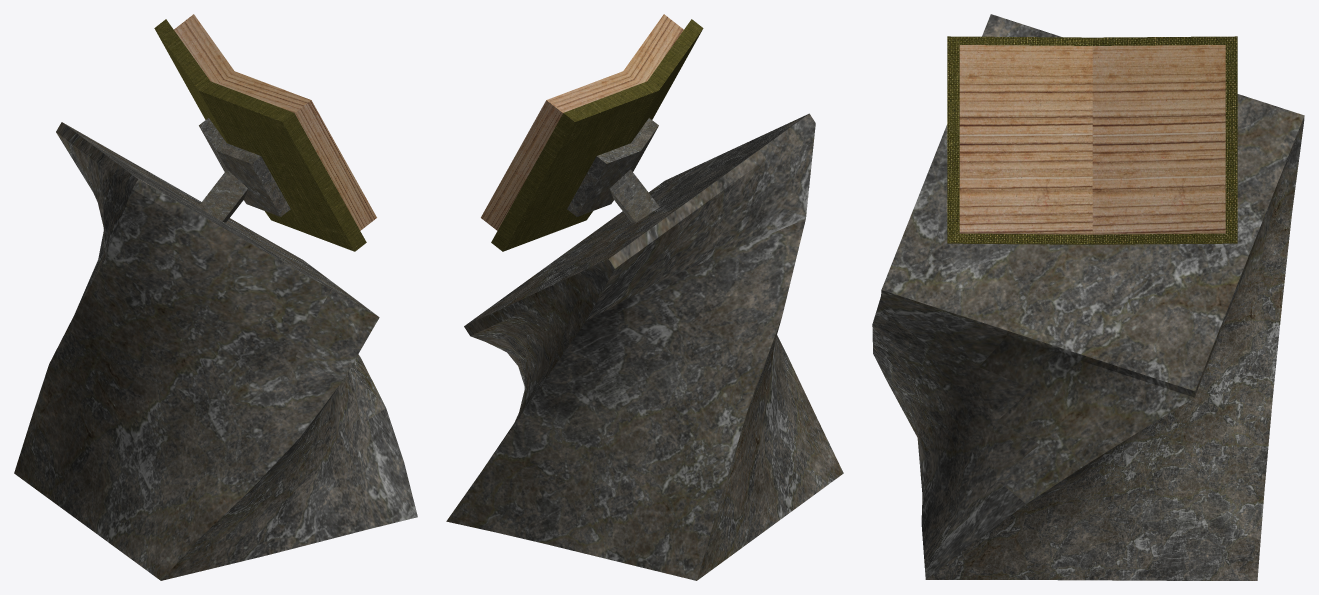
File: Shrine_1.fbx
3 views of the same model, side by side, from view 1: azimuth 30°, elevation 25°; view 2: azimuth 150°, elevation 25°; view 3: azimuth 270°, elevation 25° (orthographic). The views are drawn at different scales.
Visible parts, largest first — view 1: Cylinder.007, Cube.080; view 2: Cylinder.007, Cube.080; view 3: Cylinder.007, Cube.080.
Boxes of the visible parts, left/top/right/bottom form: Cylinder.007: left=14, top=118, right=417, bottom=580; Cube.080: left=154, top=14, right=376, bottom=251; Cylinder.007: left=446, top=113, right=843, bottom=580; Cube.080: left=481, top=14, right=703, bottom=251; Cylinder.007: left=872, top=14, right=1304, bottom=580; Cube.080: left=947, top=36, right=1237, bottom=244.
Size of the model in its own units: 222 by 324 by 260.
